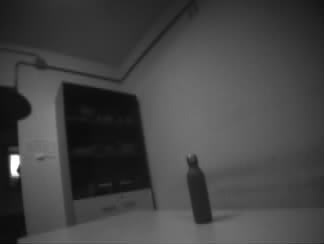Bottle: (185, 154, 213, 224)
